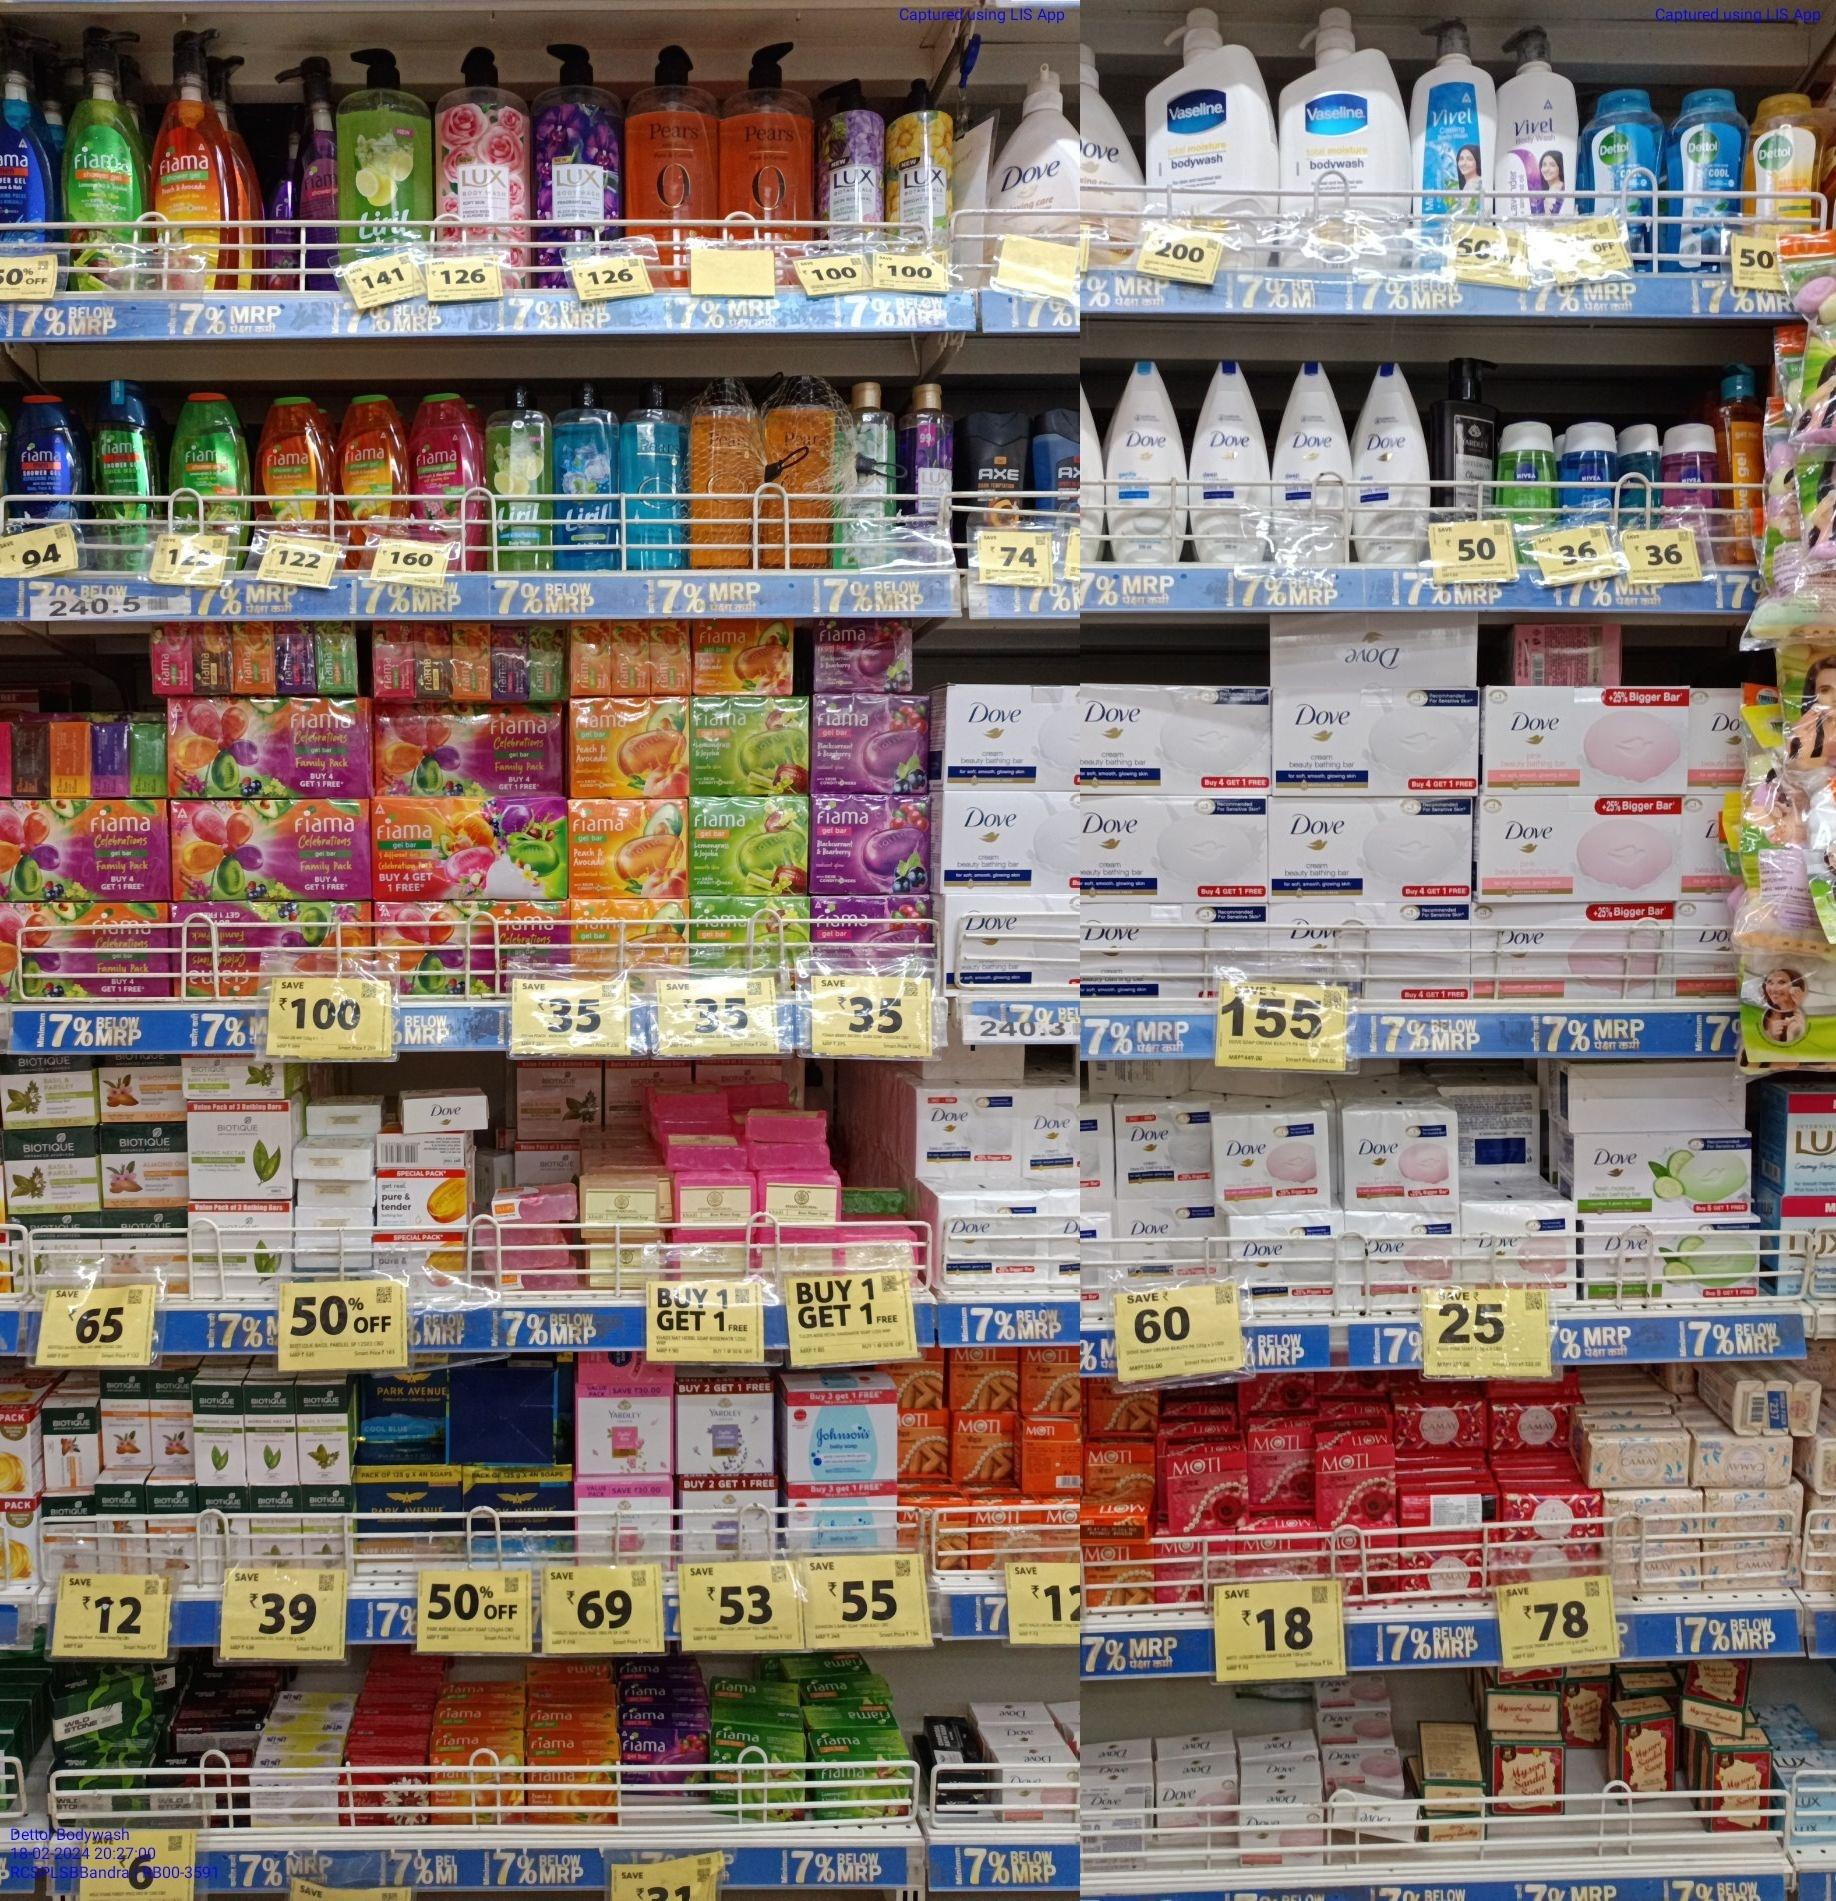Dettol_Bodywash_Cool: (1580, 87, 1663, 268), (1668, 87, 1732, 266)
Dettol_Bodywash_Refresh: (1739, 92, 1828, 234)
Dove_Deep_Moisture_Body_Wash_250ML: (1193, 356, 1273, 567), (1354, 360, 1430, 564), (1276, 360, 1349, 565)
Dove_Gentle_Exfoliating_Body_Wash_250ML: (1105, 358, 1186, 560)
Fiama_Shower_Gel_Lemongrass_and_Jojoba_250ML: (168, 394, 248, 531)
Fiama_Shower_Gel_Patchouli_and_Macadamia_250ML: (409, 394, 484, 565)
Fiama_Shower_Gel_Peach_and_Avocado_250ML: (256, 394, 329, 533), (339, 395, 407, 536)
Liril_Cooling_Mint_Body_Wash_250ML: (557, 387, 619, 570)
Liril_Lime_and_Tea_Tree_Oil_Body_Wash_250ML: (490, 389, 553, 572)
Lux_Black_Orchid_Scent_and_Juniper_Oil_Body_Wash_245ML: (901, 385, 954, 547)
Pears_Pure_Glycerin_and_Mint_Extracts_Body_Wash_250ML: (624, 384, 682, 570)
